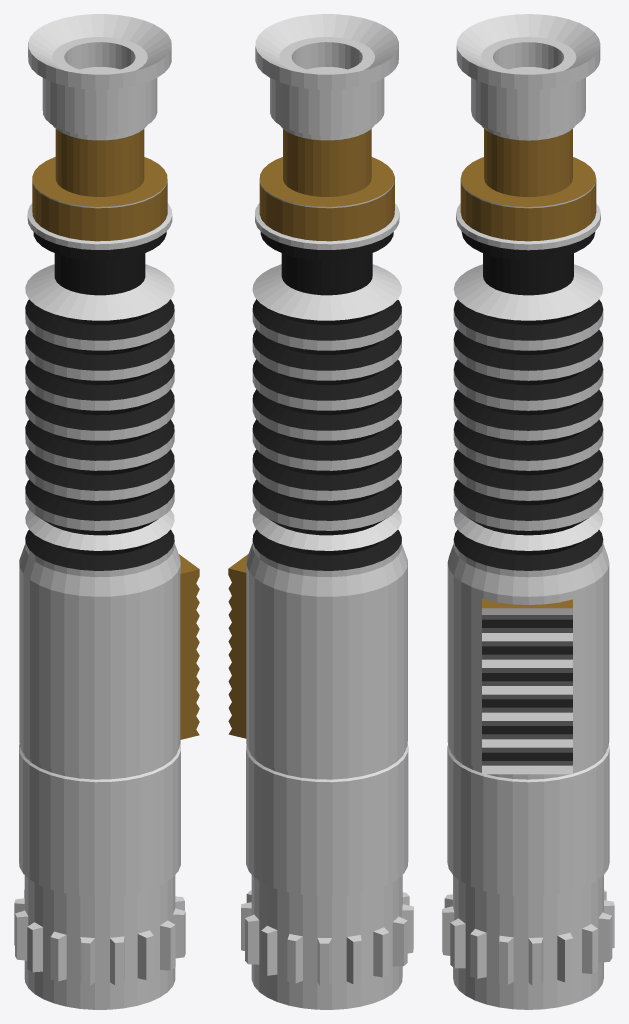
The model's file is saber.glb.
3 views of the same model, side by side, from view 1: azimuth 30°, elevation 25°; view 2: azimuth 150°, elevation 25°; view 3: azimuth 270°, elevation 25° (orthographic).
Parts seen in each view (by area): view 1: Cylinder; view 2: Cylinder; view 3: Cylinder.
Part boxes in pixels (left/top/right/bottom): Cylinder: left=14, top=14, right=199, bottom=1009; Cylinder: left=228, top=14, right=413, bottom=1009; Cylinder: left=442, top=14, right=614, bottom=1009.
Size of the model in its own units: 0.7392 by 4.36 by 0.7303.
